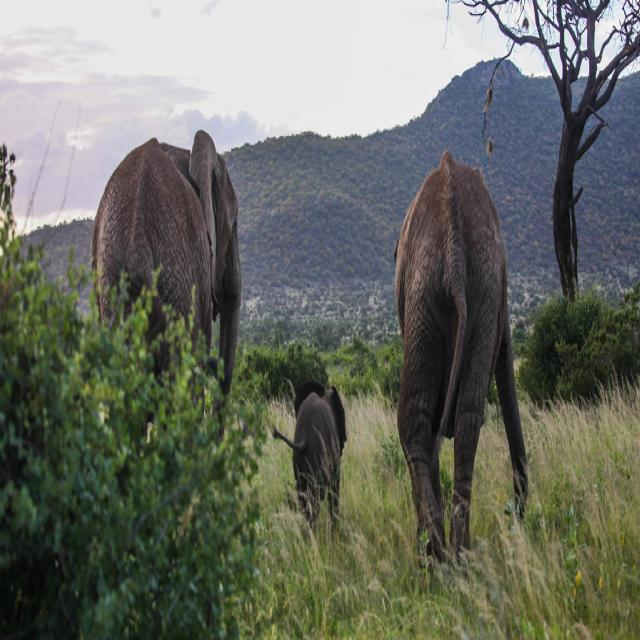elephant: (394, 146, 534, 542), (91, 135, 250, 424), (266, 380, 350, 540)
